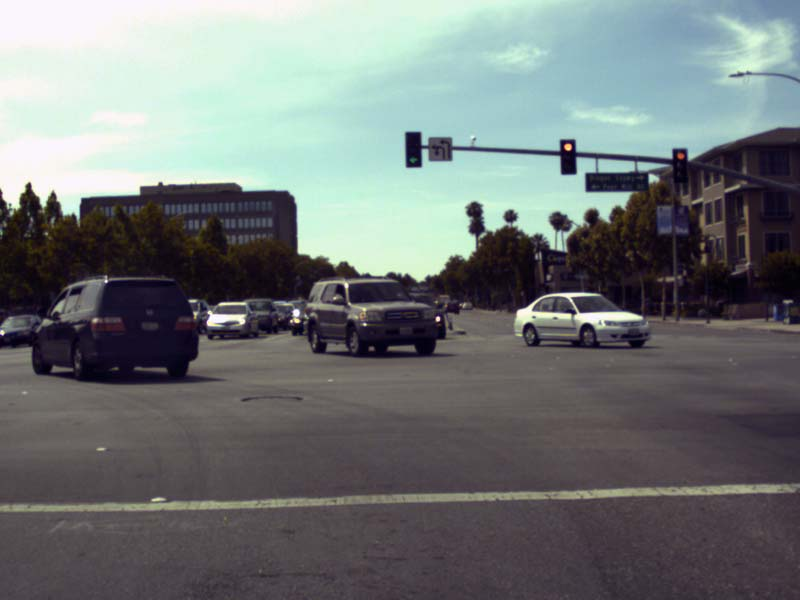Green: (404, 131, 421, 166)
Red: (559, 138, 574, 173), (672, 147, 686, 181)
